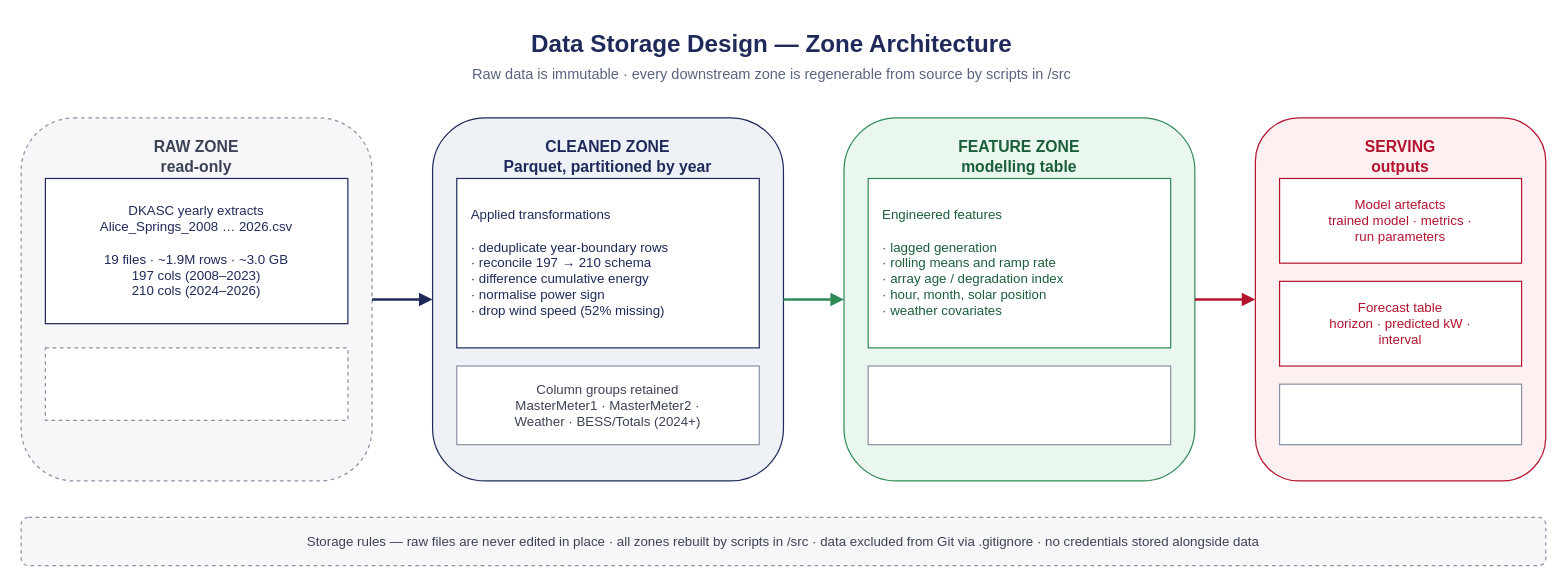
This 1567x587 diagram has some shape labels left out. The centre of each missing label's shape, as x and y in pixels:
Dashboard cache: the point at 1400,414
Provenance record source URL · download date · licence: the point at 196,383
Split policy walk-forward / rolling origin no random shuffling: the point at 1019,405
